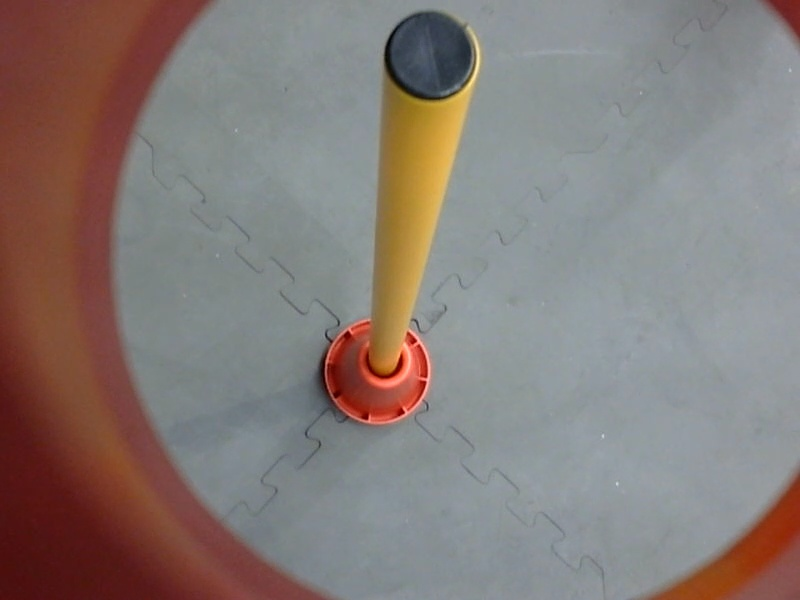tip: (378, 1, 491, 109)
